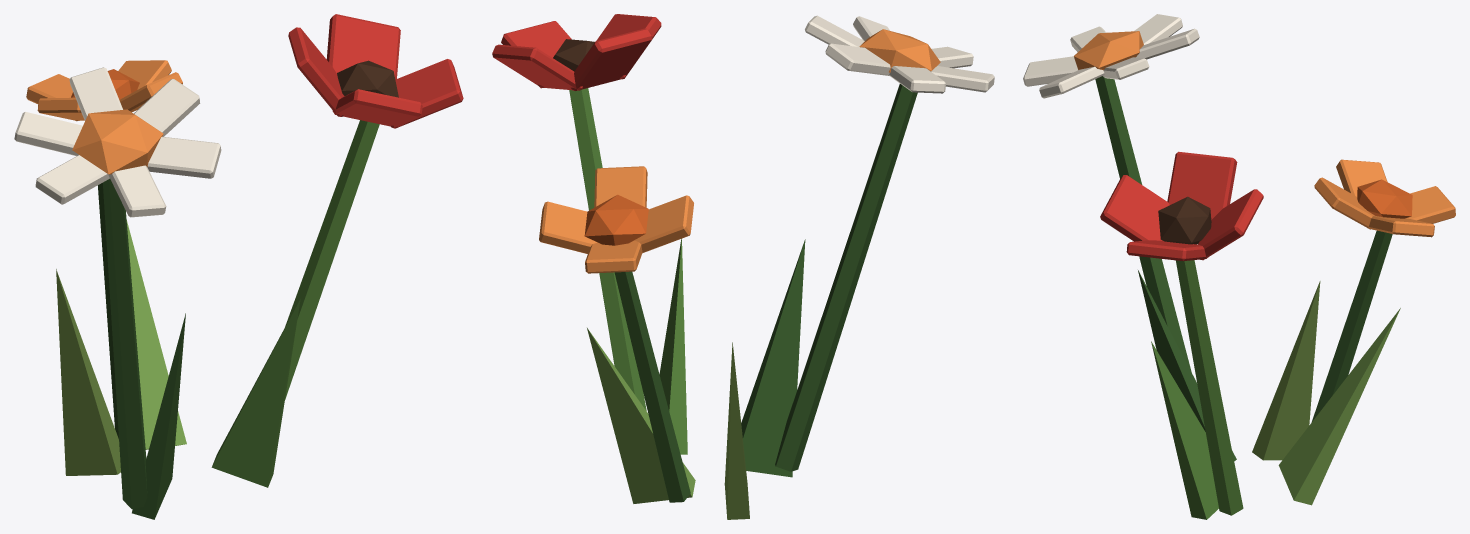
The model's file is wildflowers.glb.
3 renders of one model, left to right at view 1: azimuth 30°, elevation 25°; view 2: azimuth 150°, elevation 25°; view 3: azimuth 270°, elevation 25°, orthographic. The views are drawn at different scales.
Parts seen in each view (by area): view 1: wildflowers; view 2: wildflowers; view 3: wildflowers.
Part boxes in pixels (bbox=[...]): wildflowers: bbox=[14, 14, 463, 519]; wildflowers: bbox=[492, 14, 994, 519]; wildflowers: bbox=[1023, 14, 1455, 519].
Bounding box in the file's own units: 0.894 × 0.8551 × 0.815.
Materials: 1 (1 with a texture image).
